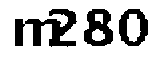0: (118, 7, 147, 51)
2: (47, 7, 78, 48)
8: (82, 7, 115, 48)
m: (10, 18, 60, 49)
